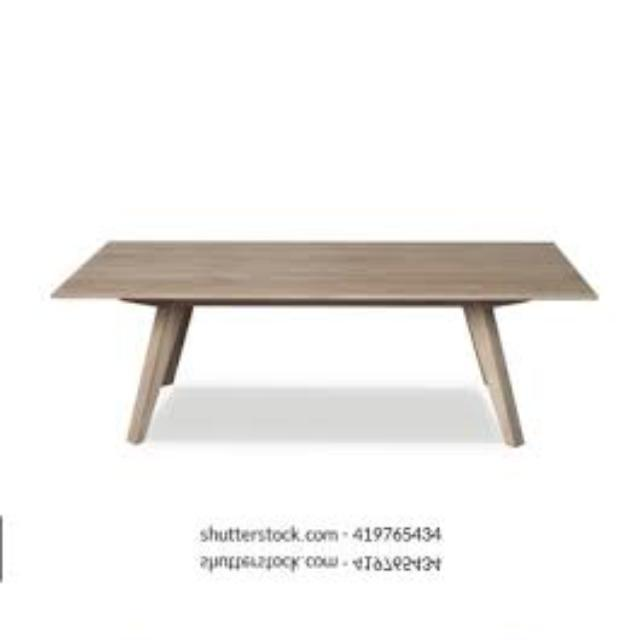obstacle: (34, 174, 606, 478), (34, 620, 605, 640), (34, 0, 605, 6)
